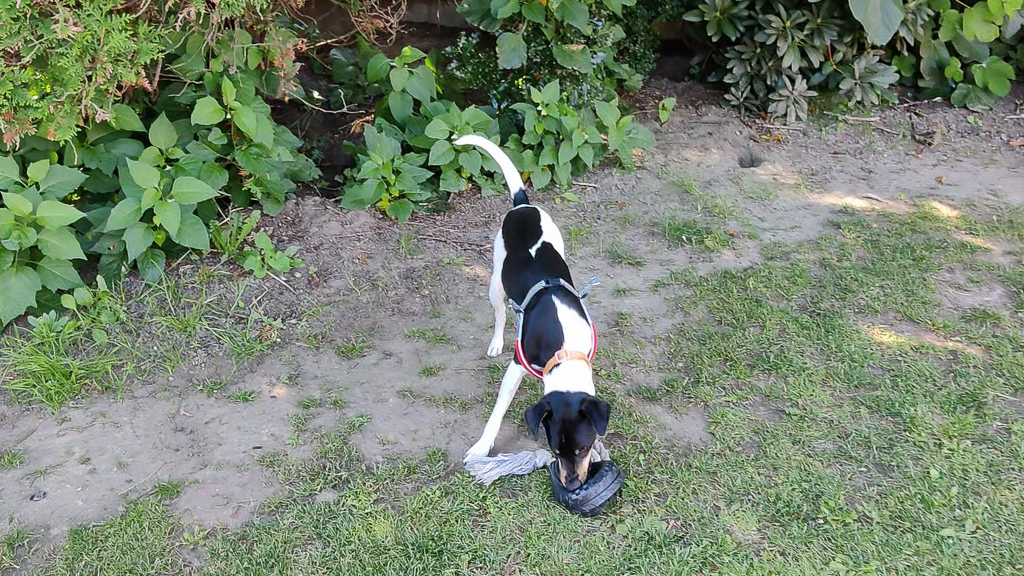Dog: (437, 122, 644, 524)
